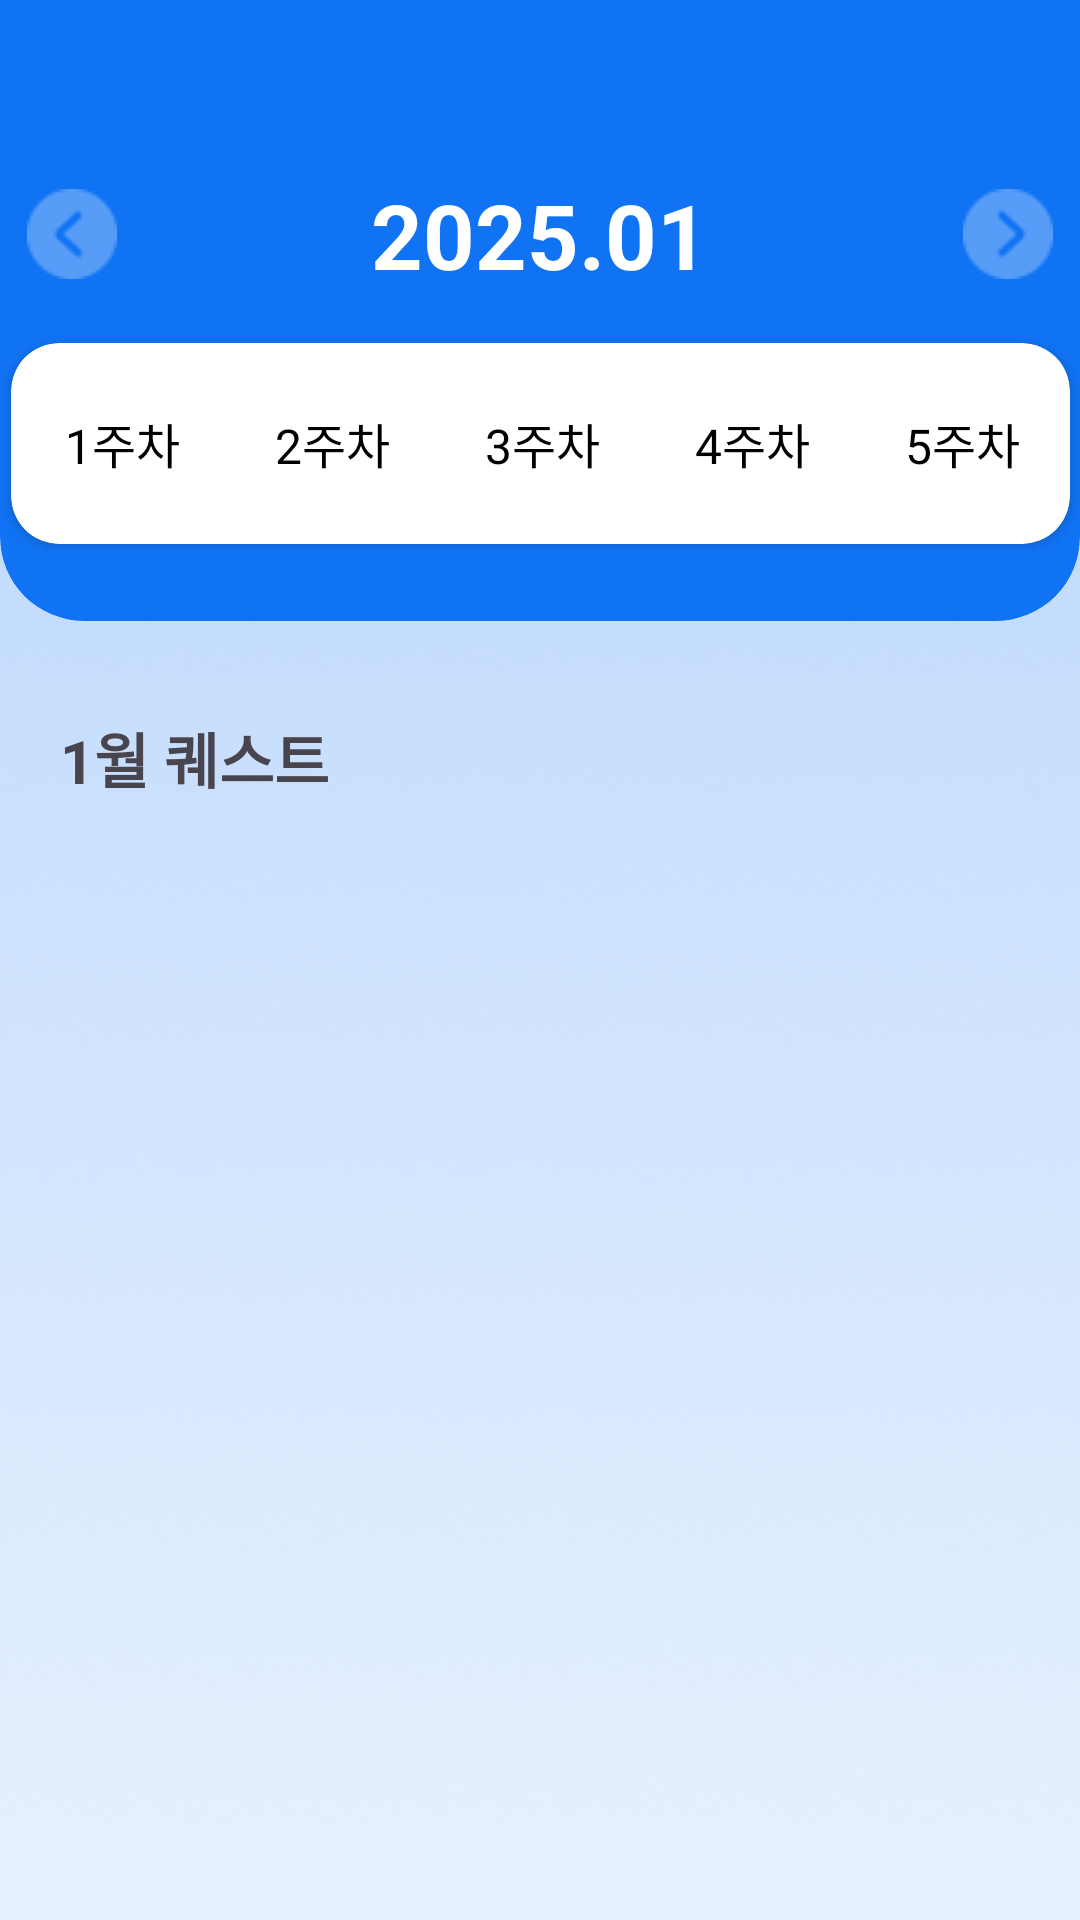

Screen size 1080w x 1920h. Icon name, then its center in pixels as (x=x, y=y):
Left Arrow: (x=72, y=234)
Right Arrow: (x=1008, y=234)
